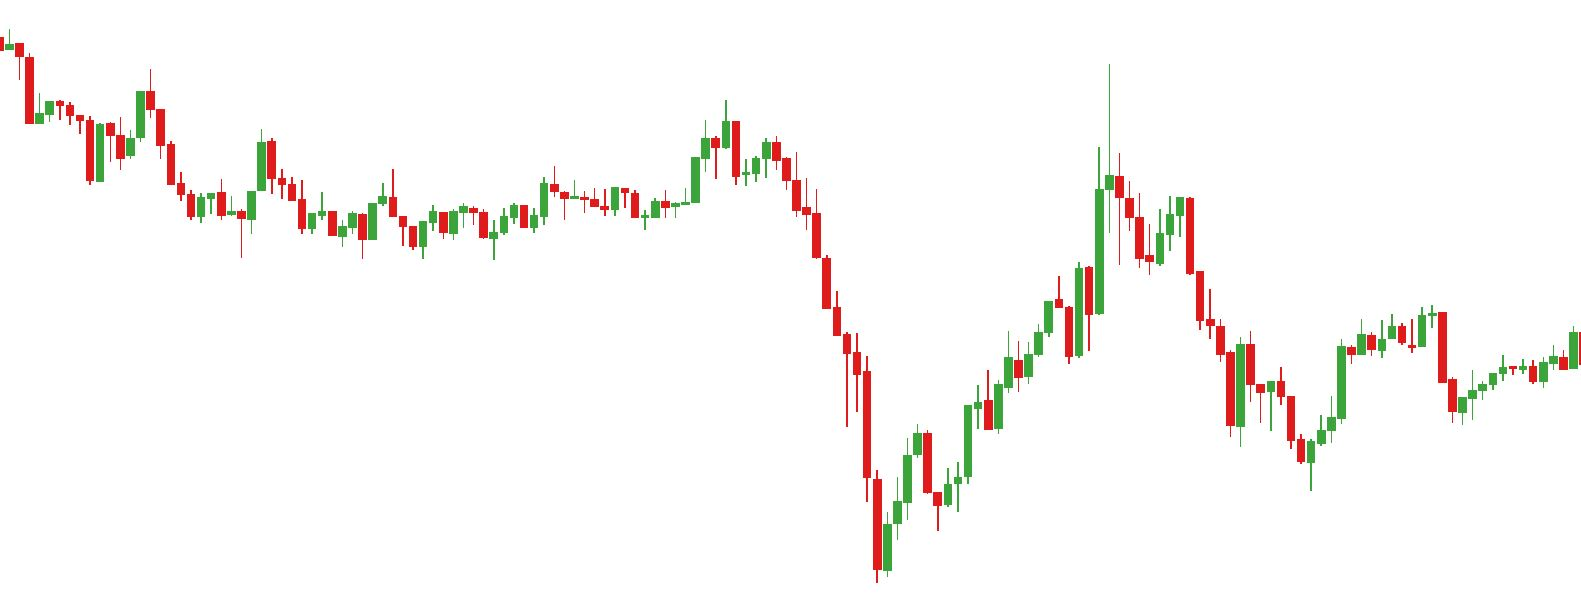buy: (1223, 361, 1326, 494)
sell: (88, 66, 166, 188)
